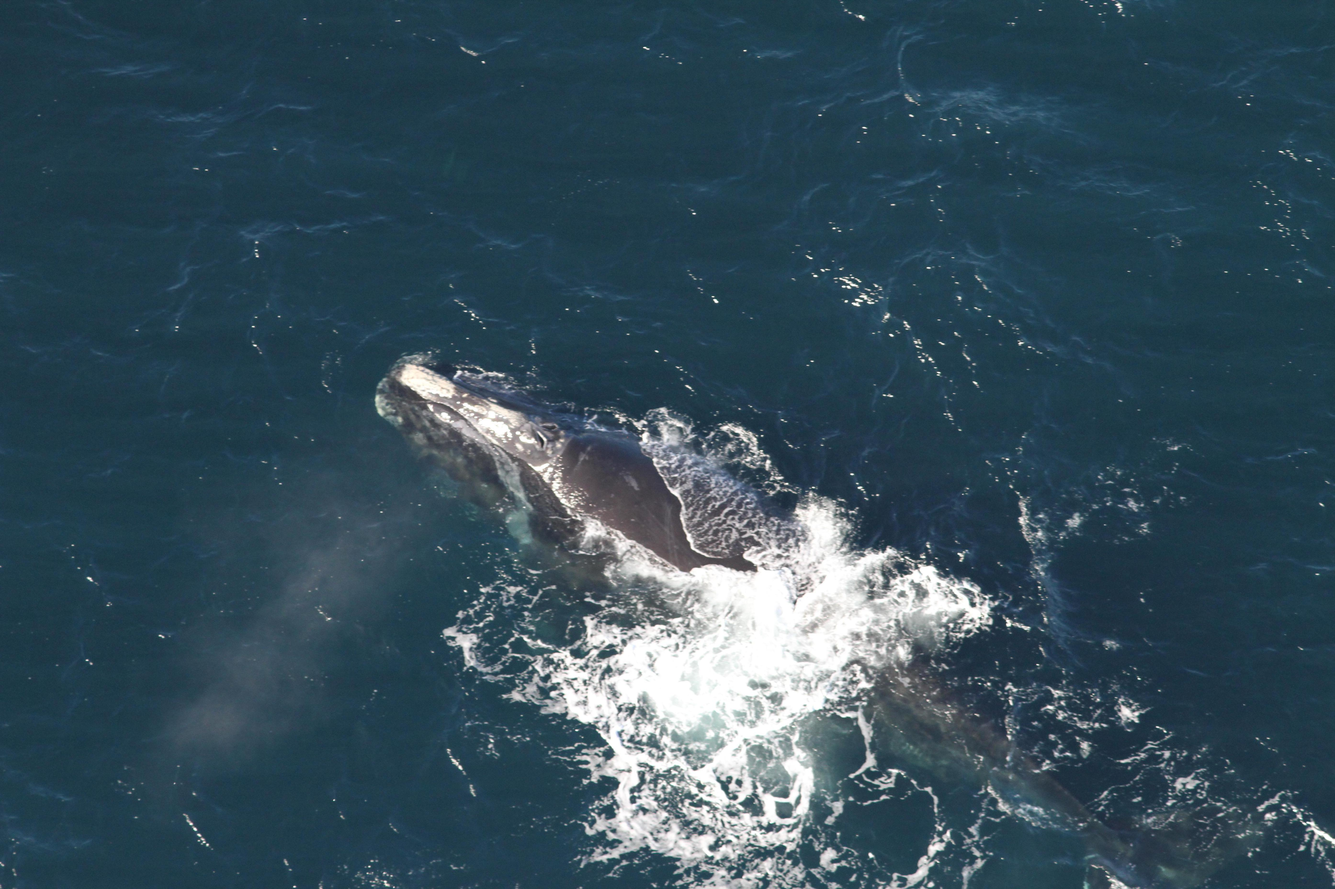whale: (369, 346, 1300, 889)
